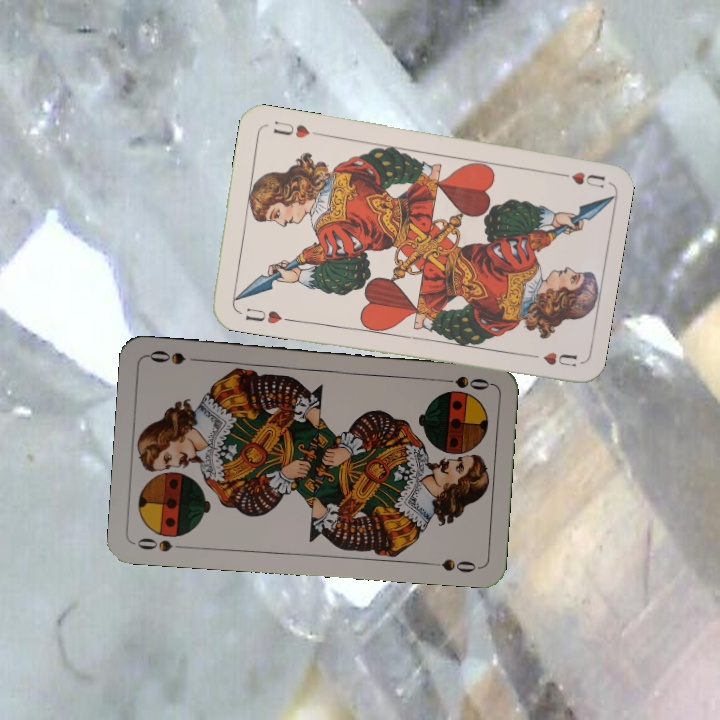HU: (550, 168, 608, 191), (241, 303, 284, 327)
SO: (433, 371, 492, 393), (133, 533, 191, 555)
